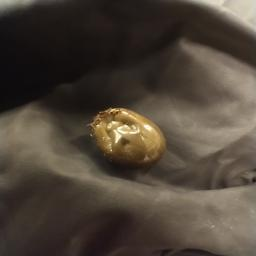Ixodes scapularis: (87, 107, 165, 169)
